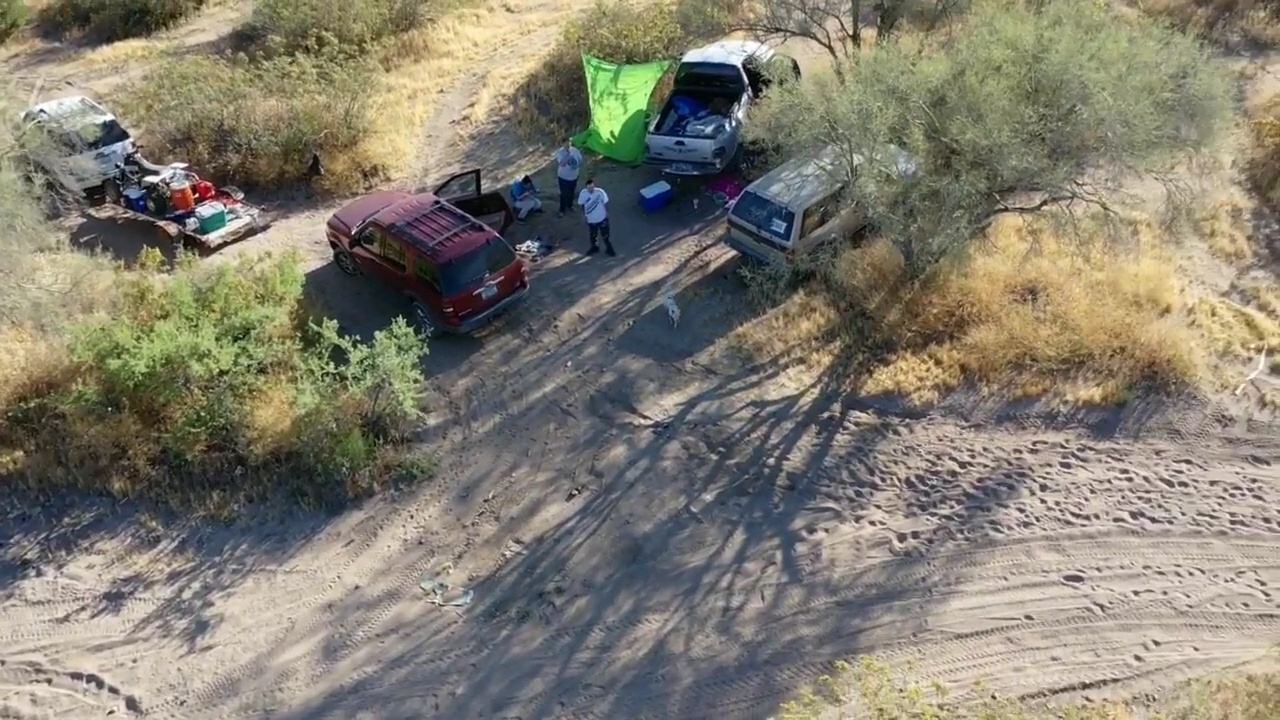araba: (324, 183, 532, 340), (725, 122, 935, 272), (9, 86, 130, 210)
insan: (581, 175, 616, 263), (558, 132, 584, 221), (511, 170, 544, 222)
kamyonet: (639, 27, 786, 174)
